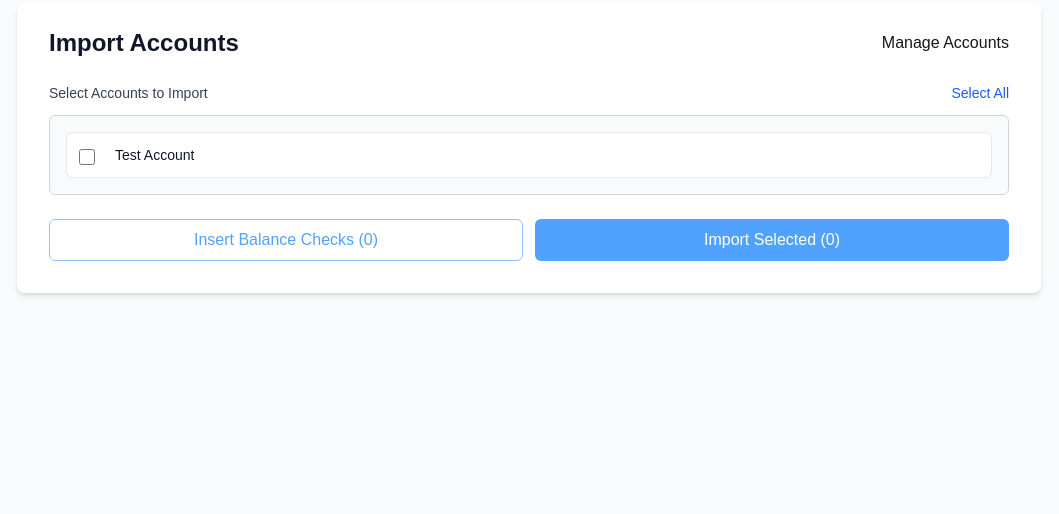
Scenario: ImportUI - Error Handling › should show error status when import fails (no __IMPORT_ID__ marker)
What coordinates should you click on to do the following:
click the checkbox
I would click on:
 (87, 157)
Its box is [79,149,95,165].
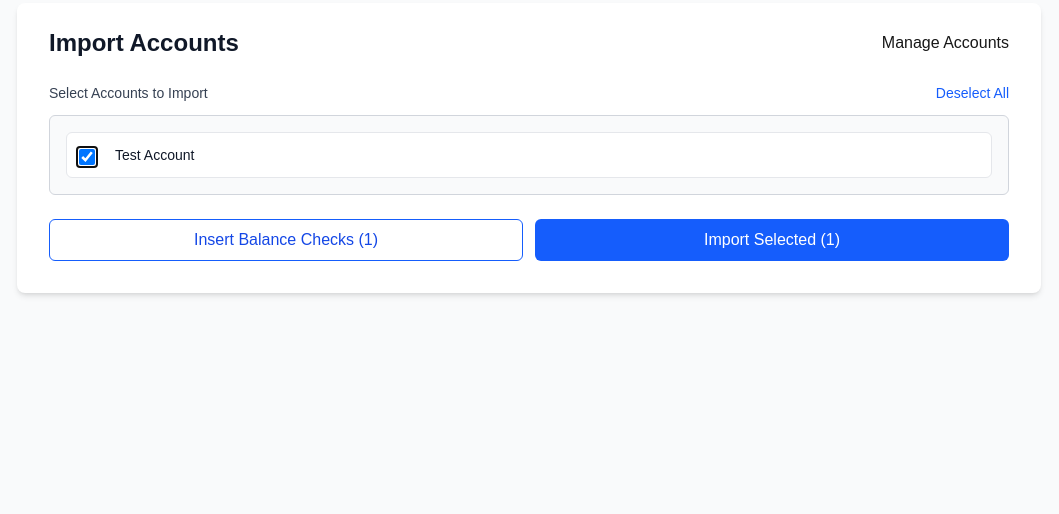
What coordinates should you click on to do the following:
click the button "Import Selected (1)"
I would click on:
 (772, 240)
Its box is [535,219,1009,261].
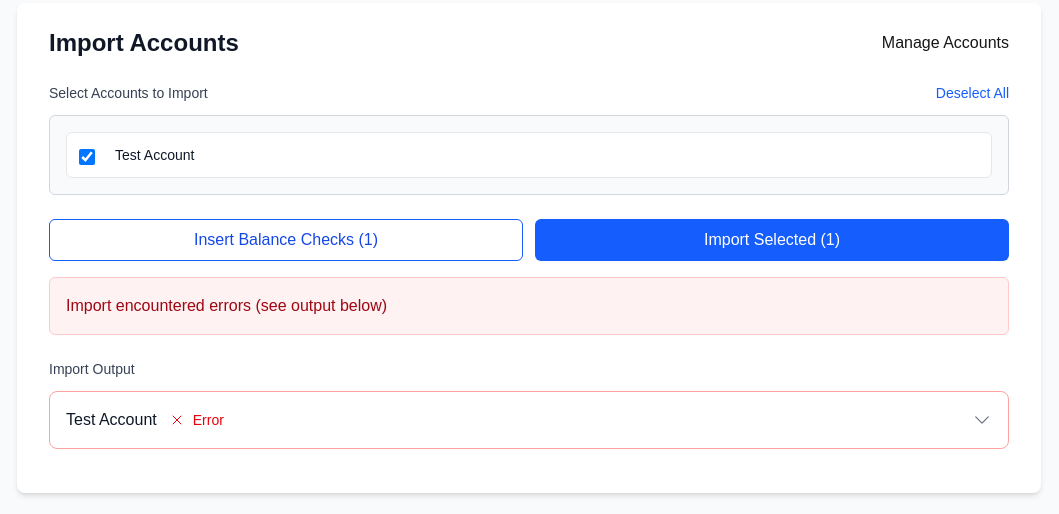
Check: the text "Error" is shown, box [169,410,224,430]
